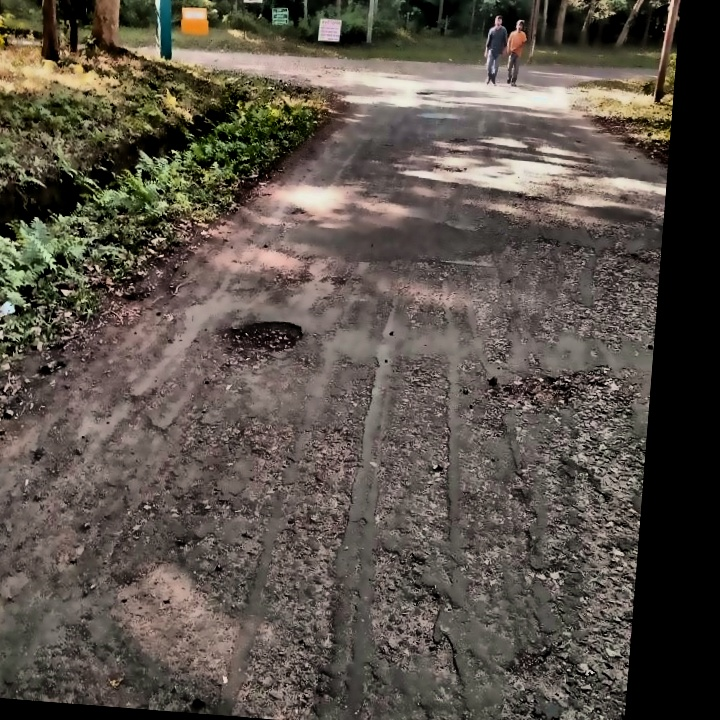pothole: (212, 310, 303, 374), (497, 368, 570, 414)
